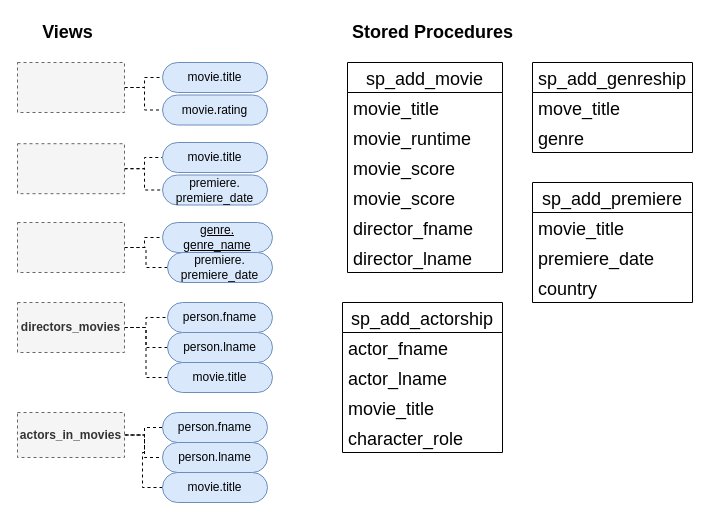
The diagram is 710 pixels wide and 520 high, and some of its shapes have lost their labels. The centre of each missing label's shape, as x and y in pixels:
"movies_in_genres" belongs at point (70, 247).
"oldest_movies" belongs at point (70, 168).
"top_10_movies" belongs at point (70, 87).
